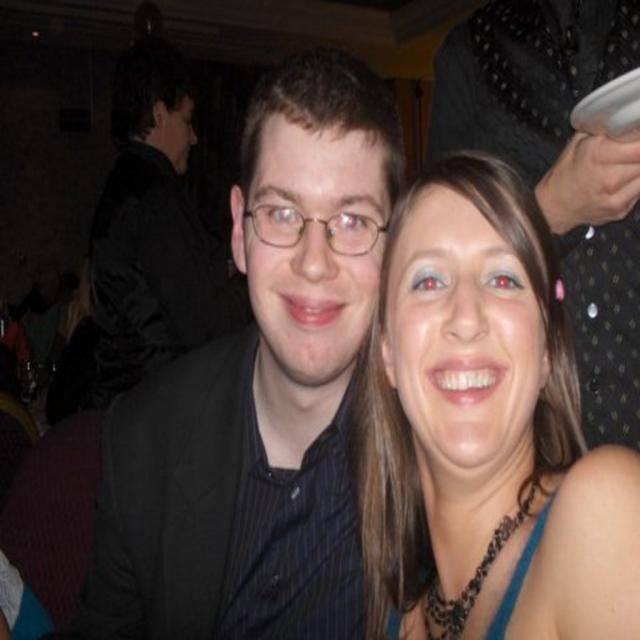closed-mouth: (277, 289, 351, 330)
